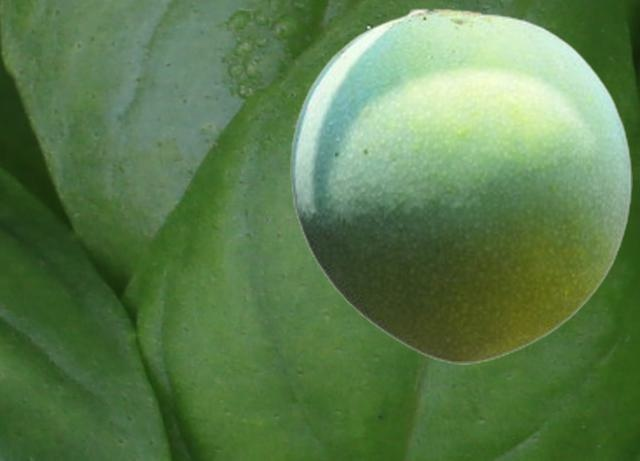green_mango: (290, 6, 631, 363)
